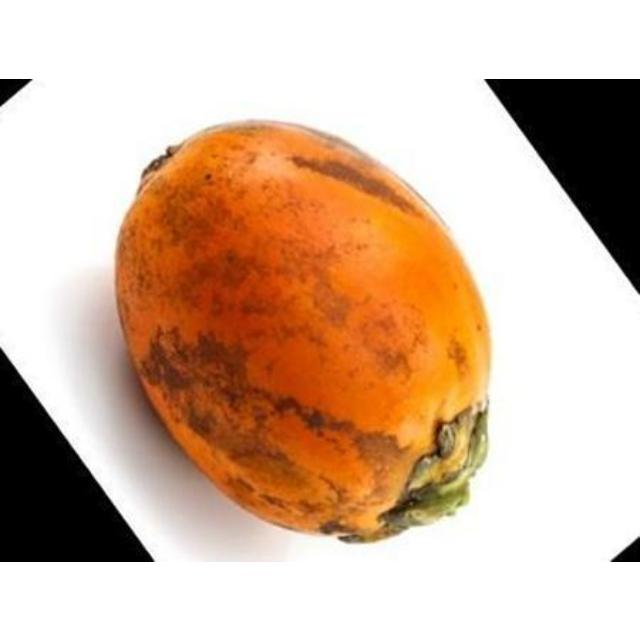good: (114, 119, 489, 544)
